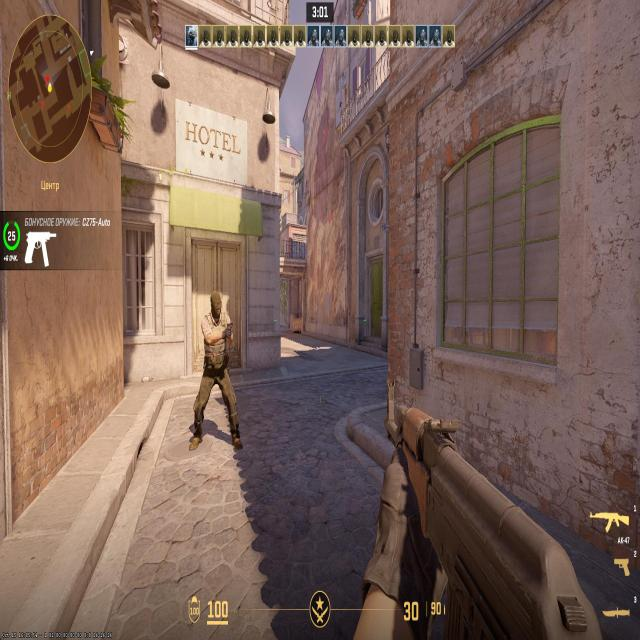T: (204, 292, 234, 434)
T_heat: (210, 295, 222, 320)
